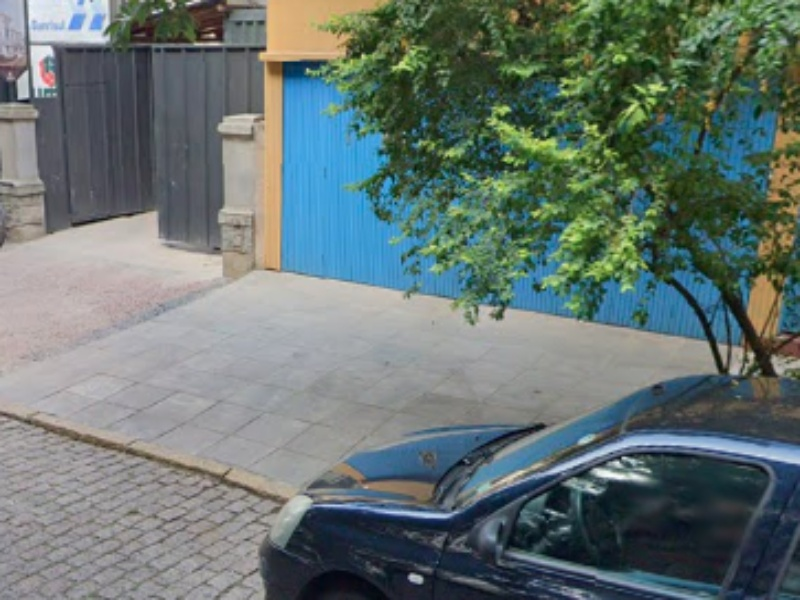g29: (1, 343, 278, 529)
